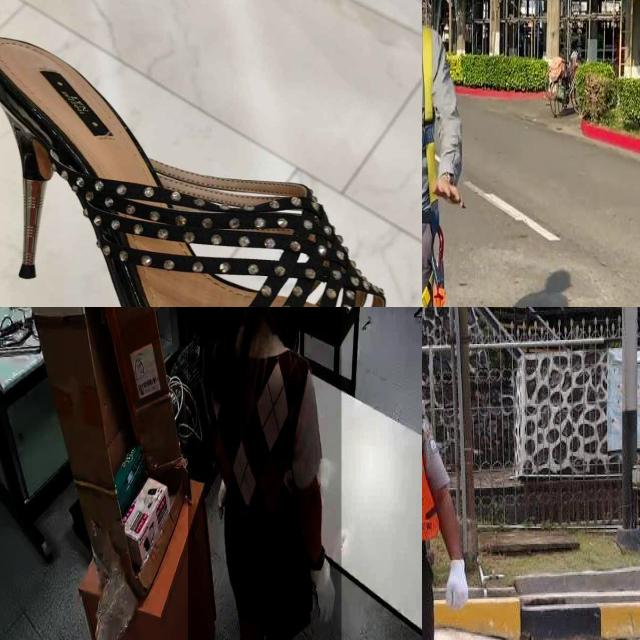Harness: (422, 206, 447, 307), (422, 26, 436, 206)
Sandals: (0, 8, 422, 307)
person: (188, 307, 342, 640), (422, 307, 527, 640)
vest: (422, 418, 445, 581)
